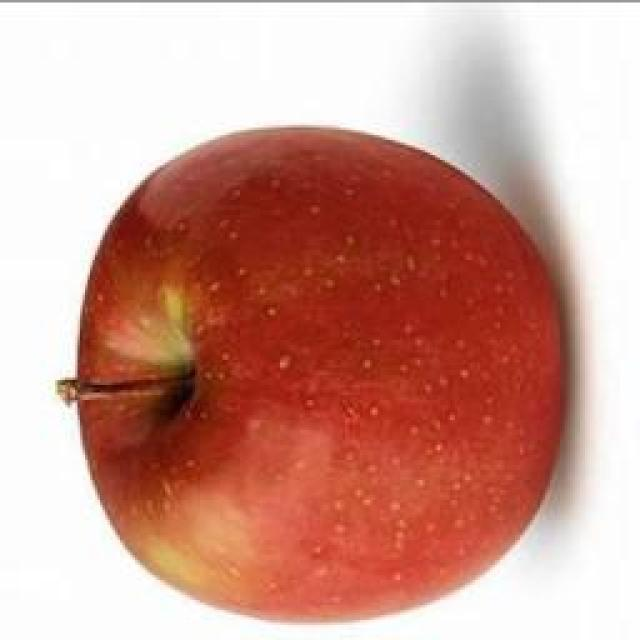apple: (78, 123, 568, 624)
